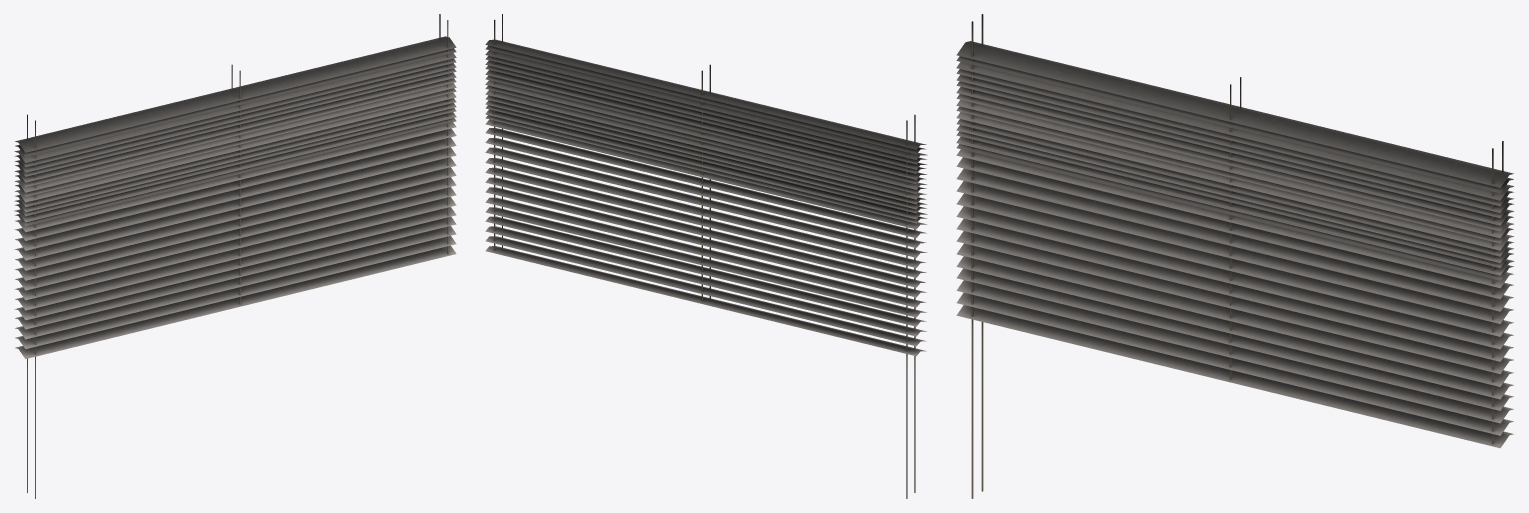
File: sonnenschutzrollos.fbx
3 renders of one model, left to right at view 1: azimuth 30°, elevation 25°; view 2: azimuth 150°, elevation 25°; view 3: azimuth 330°, elevation 25°, orthographic. The views are drawn at different scales.
Visible parts, largest first — view 1: Mesh, Mesh_ncl1_1; view 2: Mesh, Mesh_ncl1_1; view 3: Mesh, Mesh_ncl1_1.
Boxes of the visible parts, x1,y1,x2,y2 form: Mesh: (14, 14, 456, 498); Mesh_ncl1_1: (14, 17, 456, 226); Mesh: (485, 14, 927, 498); Mesh_ncl1_1: (485, 15, 927, 223); Mesh: (956, 14, 1513, 498); Mesh_ncl1_1: (956, 56, 1514, 280).
Bounding box in the file's own units: 190 × 159 × 8.52.
